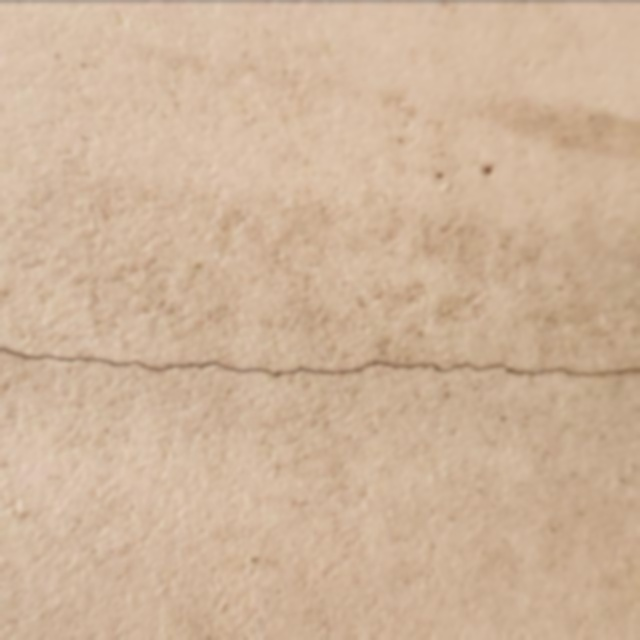SurfaceCrack: (0, 299, 639, 426)
